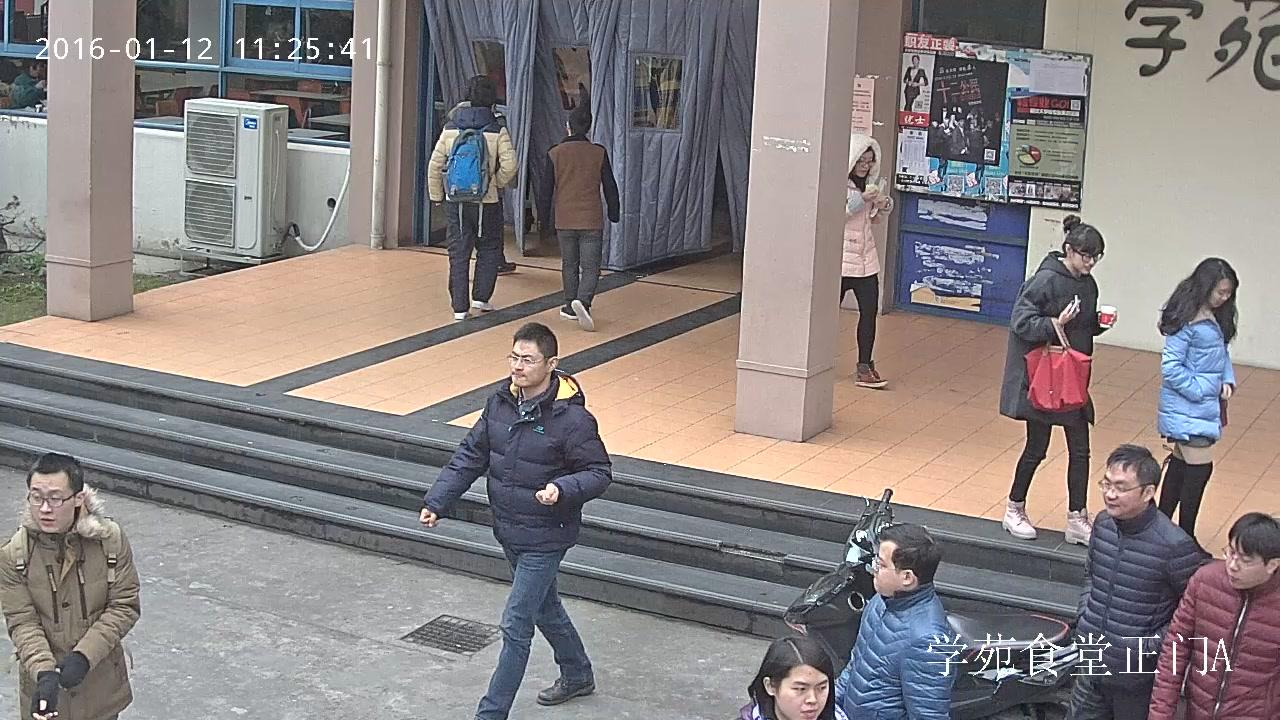person: (417, 322, 613, 720), (1061, 442, 1213, 720), (999, 214, 1119, 548), (0, 451, 140, 720), (1146, 511, 1280, 719), (833, 521, 957, 720), (1158, 257, 1238, 558), (426, 79, 518, 320), (536, 106, 620, 330), (839, 133, 895, 389), (9, 58, 47, 109), (903, 55, 929, 112)
